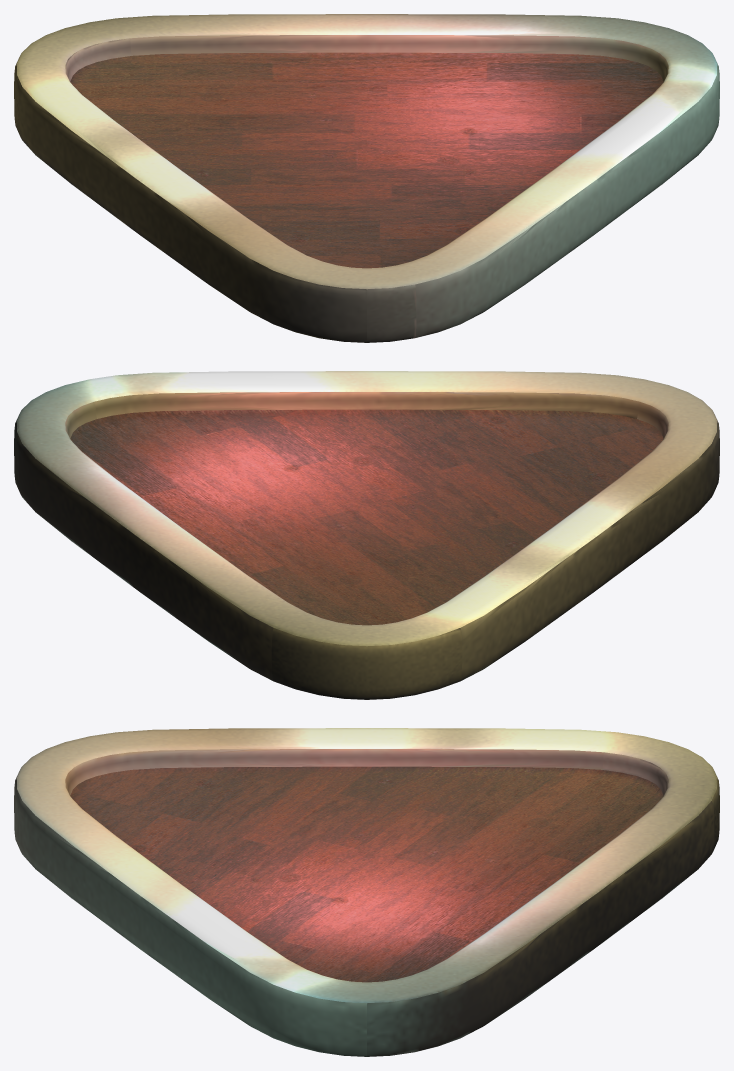
The model's file is ButtonStart.fbx.
3 views of the same model, one above another, from view 1: azimuth 30°, elevation 25°; view 2: azimuth 150°, elevation 25°; view 3: azimuth 270°, elevation 25° (orthographic).
Visible parts, largest first — view 1: 关卡按钮, 关卡按钮底板; view 2: 关卡按钮, 关卡按钮底板; view 3: 关卡按钮, 关卡按钮底板.
Part boxes in pixels (bbox=[...]): 关卡按钮: bbox=[14, 14, 719, 342]; 关卡按钮底板: bbox=[70, 52, 663, 268]; 关卡按钮: bbox=[14, 371, 719, 699]; 关卡按钮底板: bbox=[70, 409, 663, 625]; 关卡按钮: bbox=[14, 728, 719, 1056]; 关卡按钮底板: bbox=[70, 766, 663, 982].
Bounding box in the file's own units: 5.3 × 0.5208 × 5.7.
Materials: 2 (2 with a texture image).
